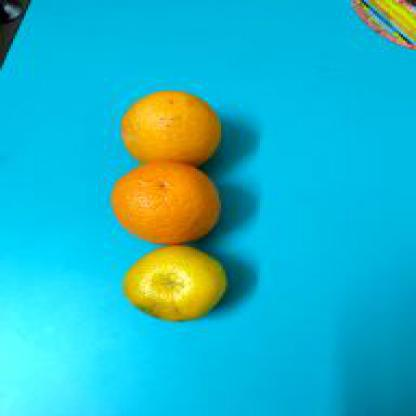orange: (106, 161, 223, 244), (119, 244, 228, 322), (115, 88, 221, 166)
